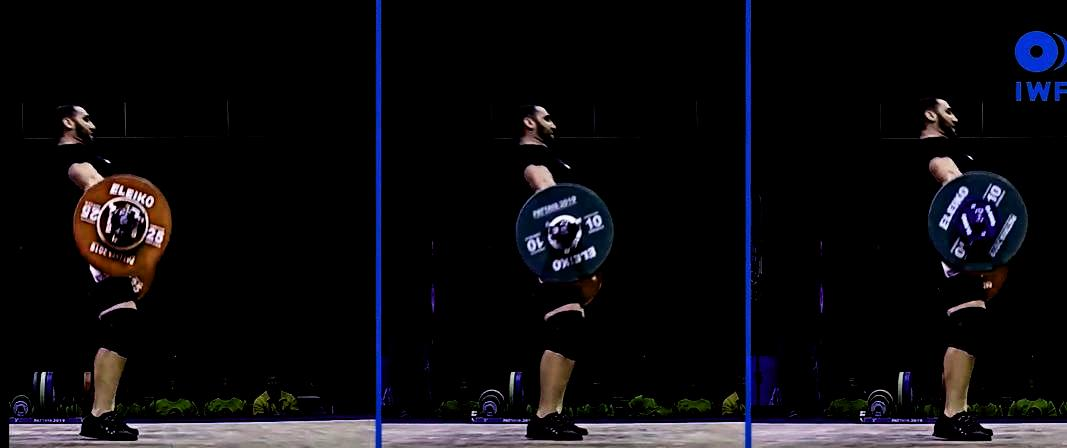Barbell: (969, 200, 992, 230), (550, 220, 575, 243), (113, 210, 135, 232)
